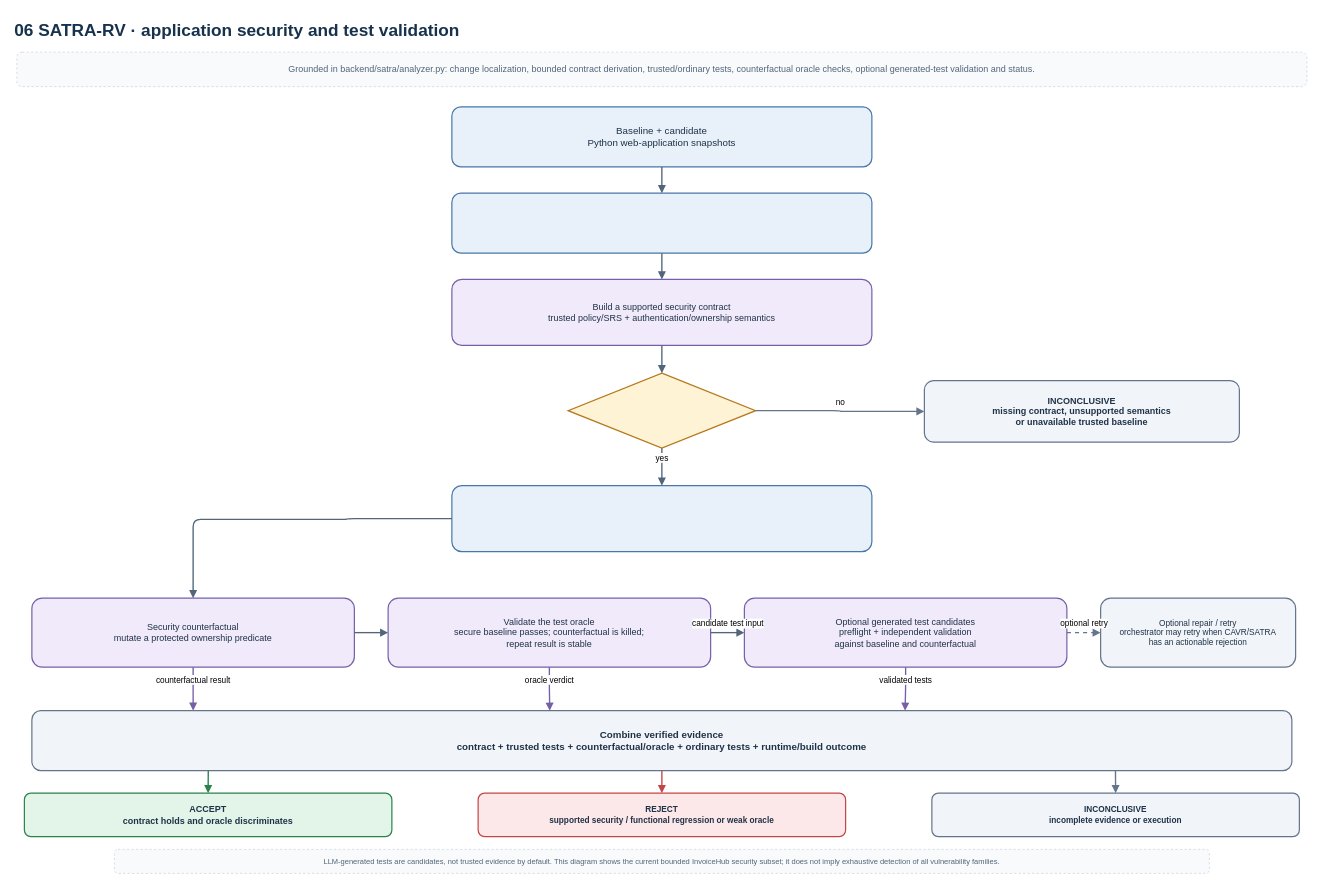
Image size: 1323x887. Some labels were removed from this diagram. Each missing label, with the centre of its shape:
Contract supported and trusted baseline usable?: (661,410)
Localize changed regions AST / diff + route/source context: (661,222)
Run static checks + trusted baseline, candidate and ordinary project tests: (661,518)
